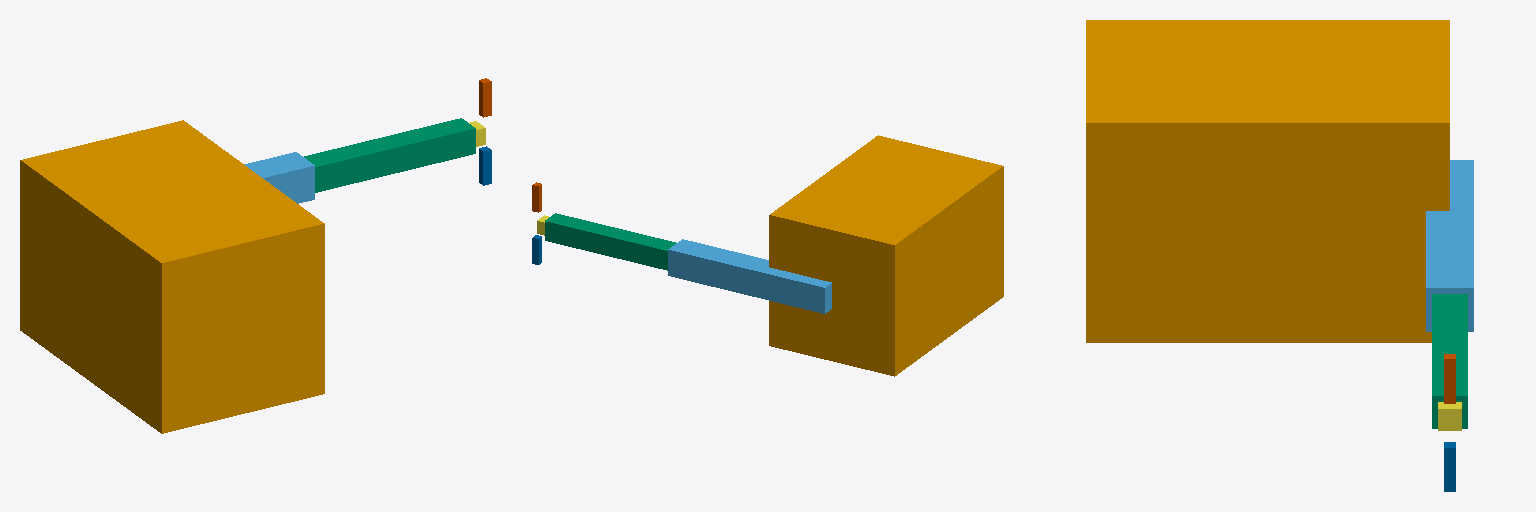
URDF robot description (mm_minimal):
<?xml version="1.0"?>
<robot name="mm_minimal">
  <link name="base_link">
    <visual>
      <origin xyz="0 0 0" rpy="0 0 0"/>
      <geometry>
        <box size="0.4 0.6 0.4"/>
      </geometry>
    </visual>
    <!-- Collision box is shorter than the visual chassis and shifted down: the
         shoulder pivot sits at +0.3 and the upper-arm collision box (0.08 tall)
         reaches down to +0.26, so a full-height chassis collider interpenetrates
         the arm and contact impulses lock the shoulder joint solid. -->
    <collision>
      <origin xyz="0 -0.05 0" rpy="0 0 0"/>
      <geometry>
        <box size="0.4 0.5 0.4"/>
      </geometry>
    </collision>
  </link>

  <link name="upper_arm_link">
    <visual>
      <origin xyz="0.25 0 0" rpy="0 0 0"/>
      <geometry>
        <box size="0.5 0.08 0.08"/>
      </geometry>
    </visual>
    <!-- Collision boxes along the arm chain are slightly shorter than the visuals
         so adjacent links do not interpenetrate: overlapping colliders on jointed
         links generate contact impulses that lock the joint solid. -->
    <collision>
      <origin xyz="0.24 0 0" rpy="0 0 0"/>
      <geometry>
        <box size="0.46 0.08 0.08"/>
      </geometry>
    </collision>
  </link>

  <link name="forearm_link">
    <visual>
      <origin xyz="0.2 0 0" rpy="0 0 0"/>
      <geometry>
        <box size="0.4 0.06 0.06"/>
      </geometry>
    </visual>
    <collision>
      <origin xyz="0.18 0 0" rpy="0 0 0"/>
      <geometry>
        <box size="0.34 0.06 0.06"/>
      </geometry>
    </collision>
  </link>

  <link name="gripper_base_link">
    <visual>
      <origin xyz="0 0 0" rpy="0 0 0"/>
      <geometry>
        <box size="0.06 0.04 0.04"/>
      </geometry>
    </visual>
    <!-- Collision is a token box, much smaller than the visual: this mount sits at
         the same X/Y/Z as a graspable object between the flanking fingers
         (half-extent up to ~0.035 m — wider than this mount at any collision size
         that still resembles the visual), so a full-size collider here
         interpenetrates the object before the fingers can close around it and
         ejects it out of reach; contact with the mount (not a finger) also doesn't
         count toward the grasp weld, so a collider here can only hurt, never help,
         a grasp. It still needs *some* collision geometry to spawn as a rigid body
         (the fingers are its joint children), hence the token size instead of none.
    -->
    <collision>
      <origin xyz="0 0 0" rpy="0 0 0"/>
      <geometry>
        <box size="0.005 0.005 0.005"/>
      </geometry>
    </collision>
  </link>

  <link name="left_finger_link">
    <!-- Visual is shifted +0.04 forward (local X) of the collision box: the finger
         joints are offset from gripper_base_link only laterally (Z), so the
         unmodified visual sits flush at the forearm tip while the weld-anchor
         computed in sim.rs (canonical_grasp_anchor) now gives the grasped object a
         forward standoff, leaving the rendered pads floating behind the held
         object. Shifting only the visual keeps grasp contact geometry (and thus
         grasp physics) exactly where it was. -->
    <visual>
      <origin xyz="0.04 0 -0.04" rpy="0 0 0"/>
      <geometry>
        <box size="0.02 0.02 0.08"/>
      </geometry>
    </visual>
    <collision>
      <origin xyz="0 0 -0.04" rpy="0 0 0"/>
      <geometry>
        <box size="0.02 0.02 0.08"/>
      </geometry>
    </collision>
  </link>

  <link name="right_finger_link">
    <!-- See left_finger_link: visual-only forward shift to meet the grasp
         weld-anchor's new forward standoff; collision left untouched. -->
    <visual>
      <origin xyz="0.04 0 0.04" rpy="0 0 0"/>
      <geometry>
        <box size="0.02 0.02 0.08"/>
      </geometry>
    </visual>
    <collision>
      <origin xyz="0 0 0.04" rpy="0 0 0"/>
      <geometry>
        <box size="0.02 0.02 0.08"/>
      </geometry>
    </collision>
  </link>

  <joint name="shoulder_joint" type="revolute">
    <parent link="base_link"/>
    <child link="upper_arm_link"/>
    <origin xyz="0 0.3 0" rpy="0 0 0"/>
    <axis xyz="0 1 0"/>
  </joint>

  <joint name="elbow_joint" type="revolute">
    <parent link="upper_arm_link"/>
    <child link="forearm_link"/>
    <origin xyz="0.5 0 0" rpy="0 0 0"/>
    <axis xyz="0 1 0"/>
  </joint>

  <joint name="gripper_base_joint" type="fixed">
    <parent link="forearm_link"/>
    <child link="gripper_base_link"/>
    <origin xyz="0.4 0 0" rpy="0 0 0"/>
  </joint>

  <joint name="left_finger_joint" type="revolute">
    <parent link="gripper_base_link"/>
    <child link="left_finger_link"/>
    <origin xyz="0 0 -0.04" rpy="0 0 0"/>
    <axis xyz="0 1 0"/>
  </joint>

  <joint name="right_finger_joint" type="revolute">
    <parent link="gripper_base_link"/>
    <child link="right_finger_link"/>
    <origin xyz="0 0 0.04" rpy="0 0 0"/>
    <axis xyz="0 1 0"/>
  </joint>
</robot>

--- Facts derived from the render (not from the file) ---
Views: 3 orthographic renders of the robot side by side, from view 1: azimuth 30°, elevation 25°; view 2: azimuth 150°, elevation 25°; view 3: azimuth 270°, elevation 25°.
Robot: mm_minimal — 6 links, 5 joints (4 revolute, 1 fixed); root link base_link; default pose: all joints at 0.
Visible links, largest first — view 1: base_link, forearm_link, upper_arm_link; view 2: base_link, upper_arm_link, forearm_link; view 3: base_link, upper_arm_link, forearm_link, gripper_base_link, left_finger_link, right_finger_link.
Link boxes in pixels (x1,y1,x2,y2): base_link: (20,120,324,433); forearm_link: (304,118,475,192); upper_arm_link: (244,152,314,203); base_link: (769,135,1003,376); upper_arm_link: (668,239,831,313); forearm_link: (545,213,676,270); base_link: (1086,20,1449,342); upper_arm_link: (1426,160,1473,331); forearm_link: (1432,294,1467,428); gripper_base_link: (1438,402,1461,430); left_finger_link: (1444,442,1455,491); right_finger_link: (1444,354,1455,403).
Bounding box of the posed robot: 1.15 × 0.64 × 0.4 m (x, y, z).
Geometry: primitives only (box / cylinder / sphere), no mesh files.
